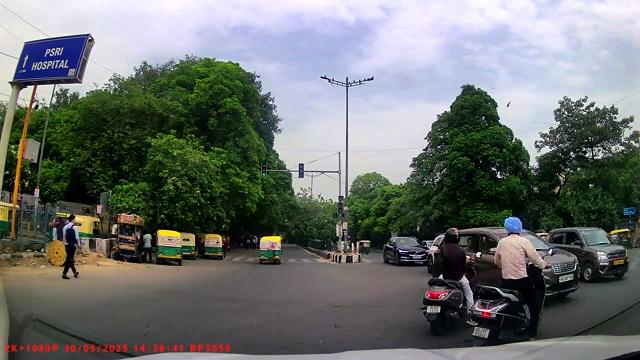motorcycle_with_helmet: (468, 215, 546, 345), (422, 226, 474, 334)
